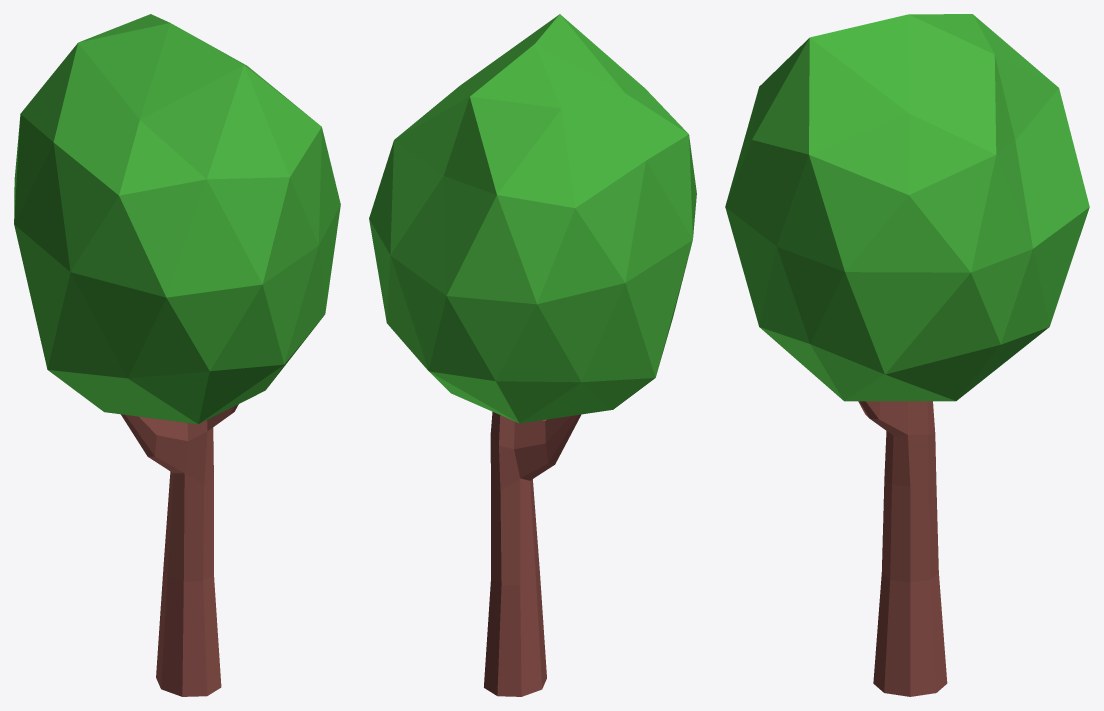
The model's file is Tree2, Tall_Skinny2.fbx.
3 renders of one model, left to right at view 1: azimuth 30°, elevation 25°; view 2: azimuth 150°, elevation 25°; view 3: azimuth 270°, elevation 25°, orthographic. The views are drawn at different scales.
Parts seen in each view (by area): view 1: Tree2; view 2: Tree2; view 3: Tree2.
Part boxes in pixels (x1,y1,x2,y2): Tree2: [14, 14, 340, 696]; Tree2: [369, 14, 696, 696]; Tree2: [725, 14, 1089, 696].
Bounding box in the file's own units: 185 × 433 × 217.
